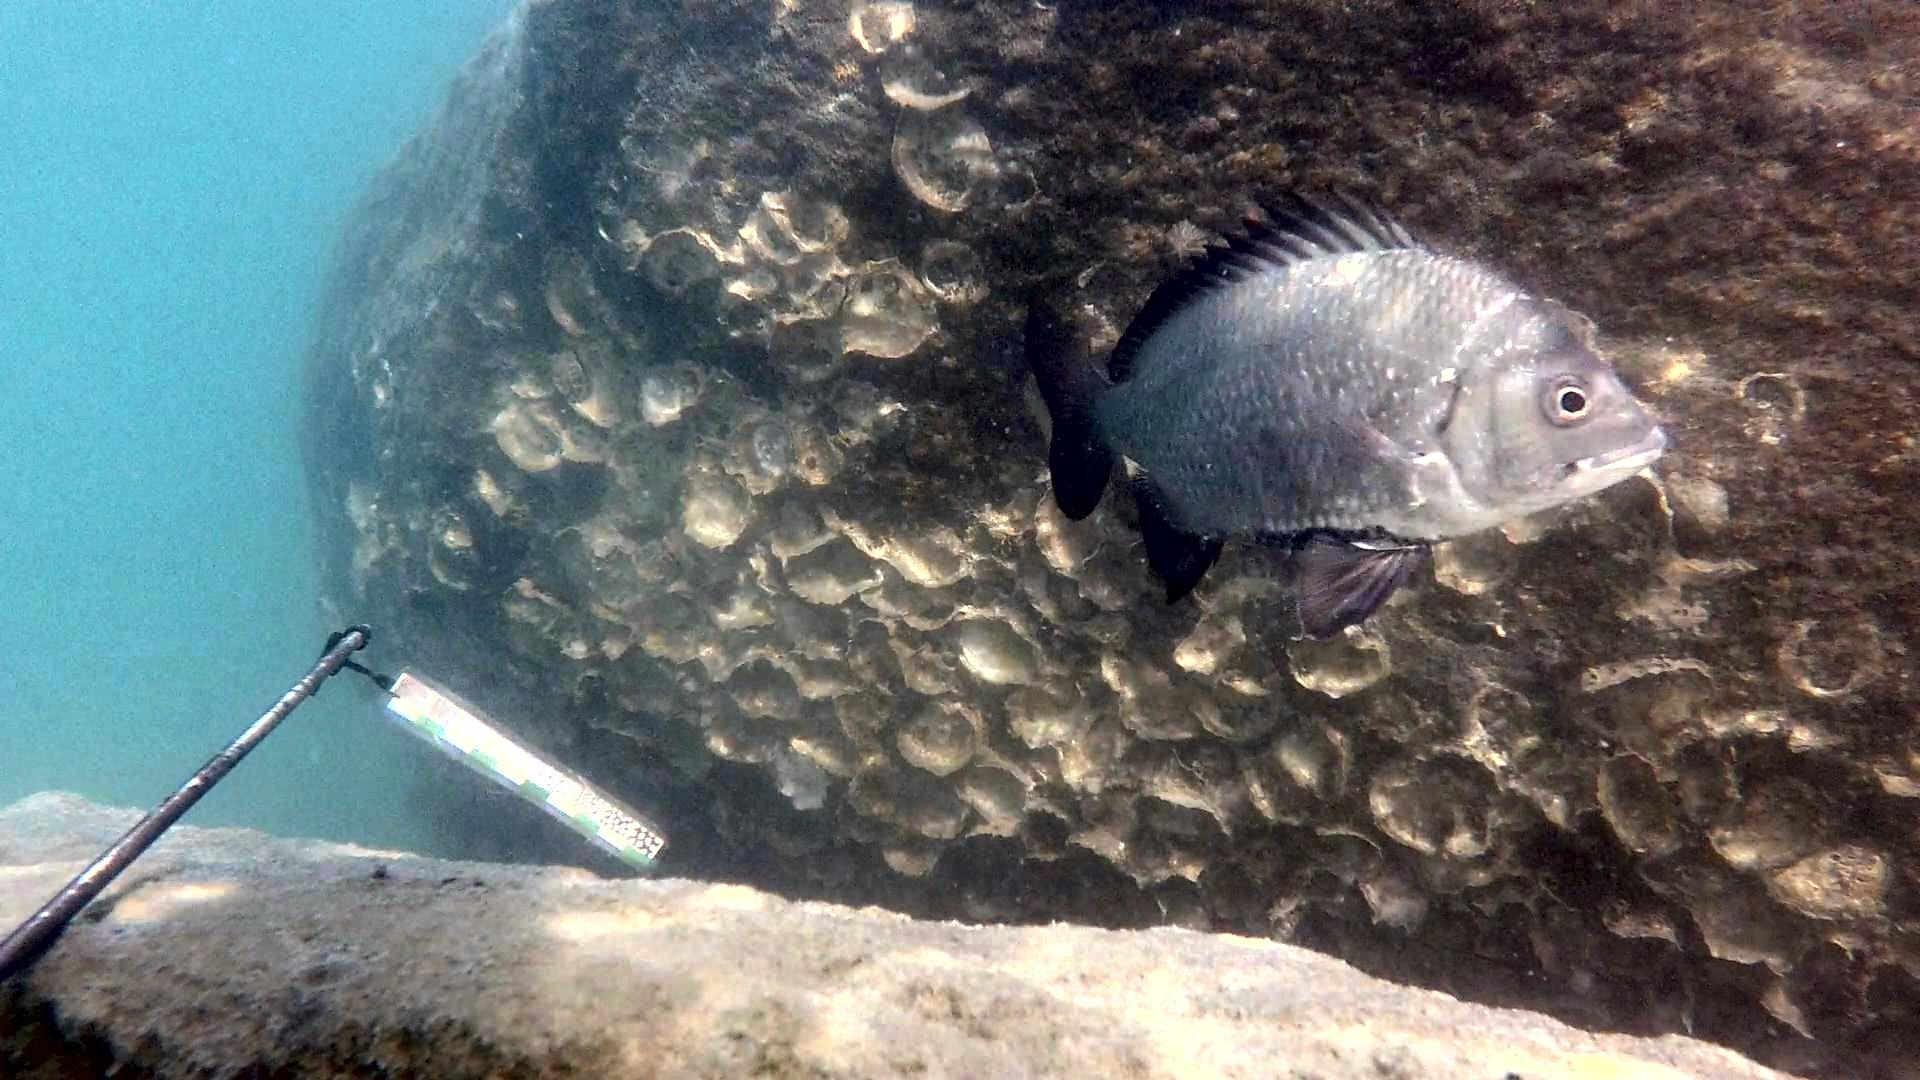acanthopagrus palmaris: (1010, 182, 1674, 649)
